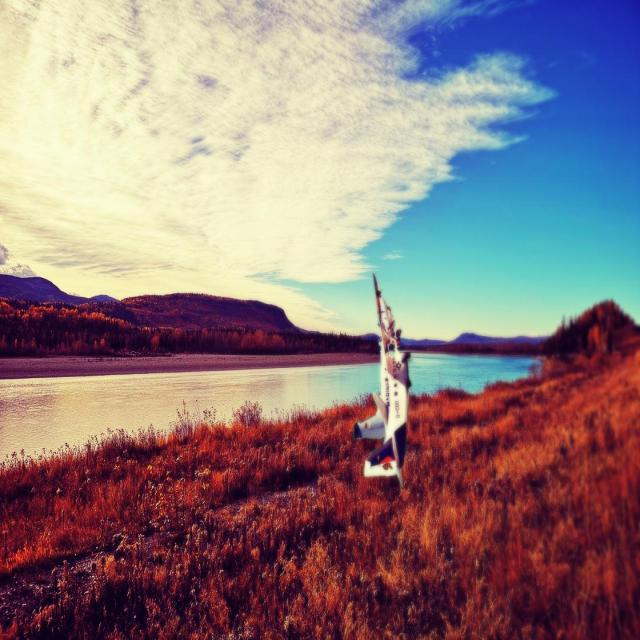airplane: (351, 272, 413, 488)
